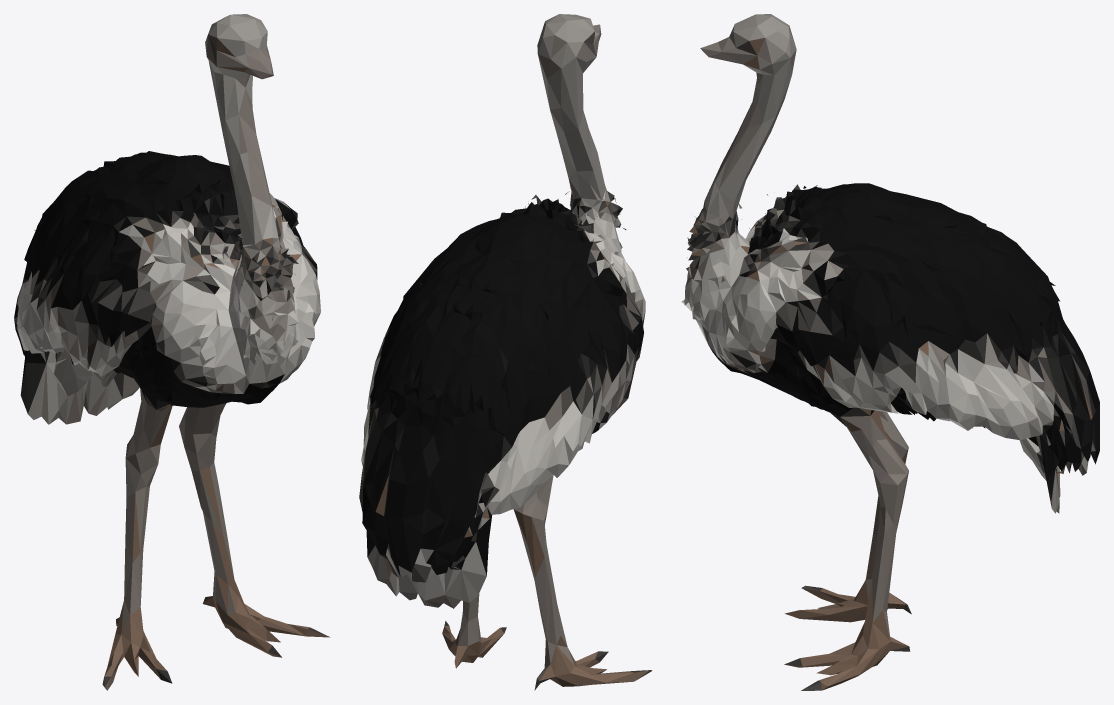
Rendered from struthio_camelus.glb.
The picture shows the model from 3 angles, left to right: view 1: azimuth 30°, elevation 25°; view 2: azimuth 150°, elevation 25°; view 3: azimuth 270°, elevation 25°; orthographic projection. The views are drawn at different scales.
Visible parts, largest first — view 1: lod0; view 2: lod0; view 3: lod0.
Part boxes in pixels (bbox=[...]): lod0: bbox=[14, 14, 330, 690]; lod0: bbox=[359, 14, 652, 690]; lod0: bbox=[681, 14, 1099, 690].
Size of what is drawn, in the model's own units: 1.03 by 2.78 by 1.69.
